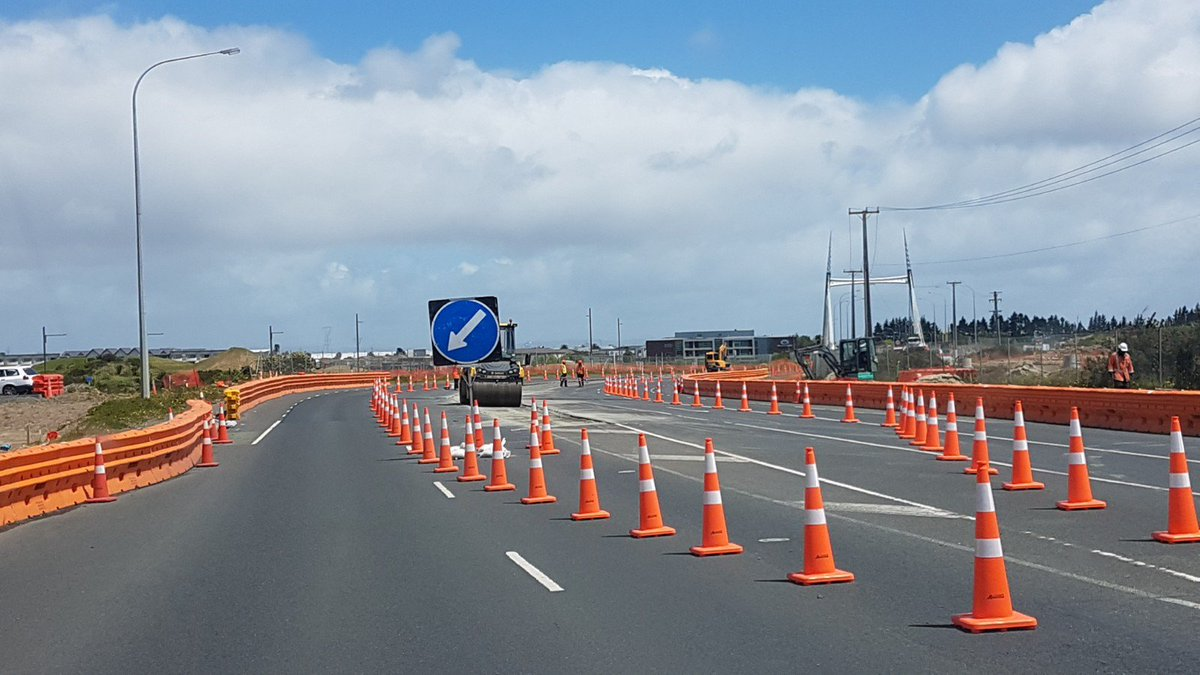cone: (953, 461, 1039, 634), (786, 446, 857, 585), (689, 437, 744, 558), (1150, 414, 1200, 543), (1053, 405, 1107, 511), (629, 432, 676, 538), (1001, 399, 1045, 490), (571, 426, 610, 521), (963, 397, 1000, 474), (520, 424, 555, 502), (485, 417, 518, 493), (84, 435, 120, 504), (936, 392, 968, 460), (457, 416, 489, 482), (920, 390, 947, 452), (434, 411, 460, 474), (195, 412, 220, 467), (417, 407, 441, 464), (910, 389, 933, 446), (407, 401, 430, 455), (898, 388, 922, 439), (537, 400, 560, 453), (469, 399, 490, 454), (526, 396, 547, 450), (396, 397, 418, 446), (895, 387, 917, 435), (212, 402, 236, 444), (895, 384, 915, 430), (882, 384, 901, 427), (841, 383, 861, 423), (799, 381, 818, 418), (389, 395, 405, 437), (385, 394, 401, 433), (766, 380, 783, 415), (380, 391, 394, 427), (376, 389, 390, 423), (738, 382, 753, 413), (373, 386, 387, 418), (712, 380, 726, 409), (371, 383, 384, 411), (691, 380, 704, 408), (671, 379, 682, 405), (653, 379, 665, 402), (642, 378, 652, 401), (632, 378, 641, 399), (615, 377, 624, 396), (626, 377, 634, 398), (622, 376, 630, 397), (422, 373, 431, 391), (407, 375, 416, 392), (395, 373, 403, 392), (432, 373, 439, 390)
